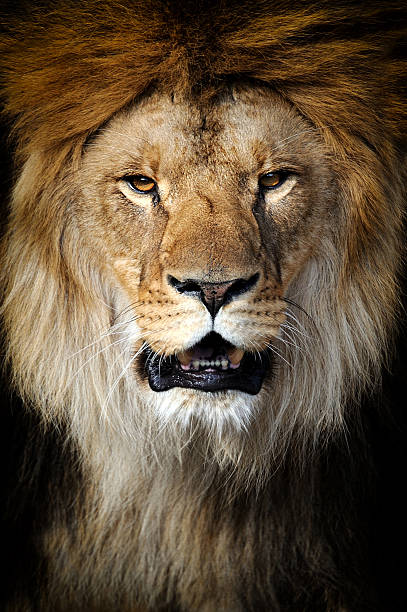lion: (1, 3, 407, 603)
